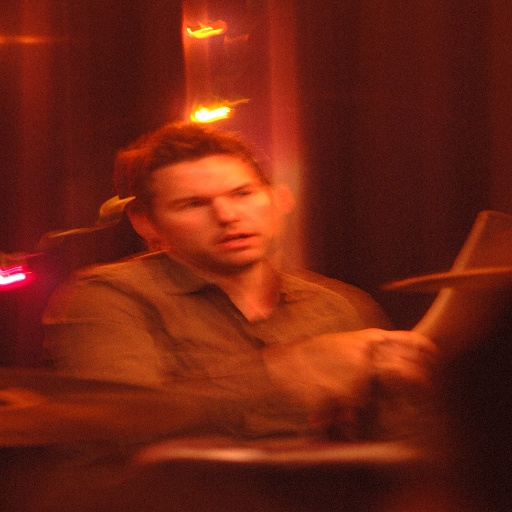hand: (341, 326, 441, 392)
